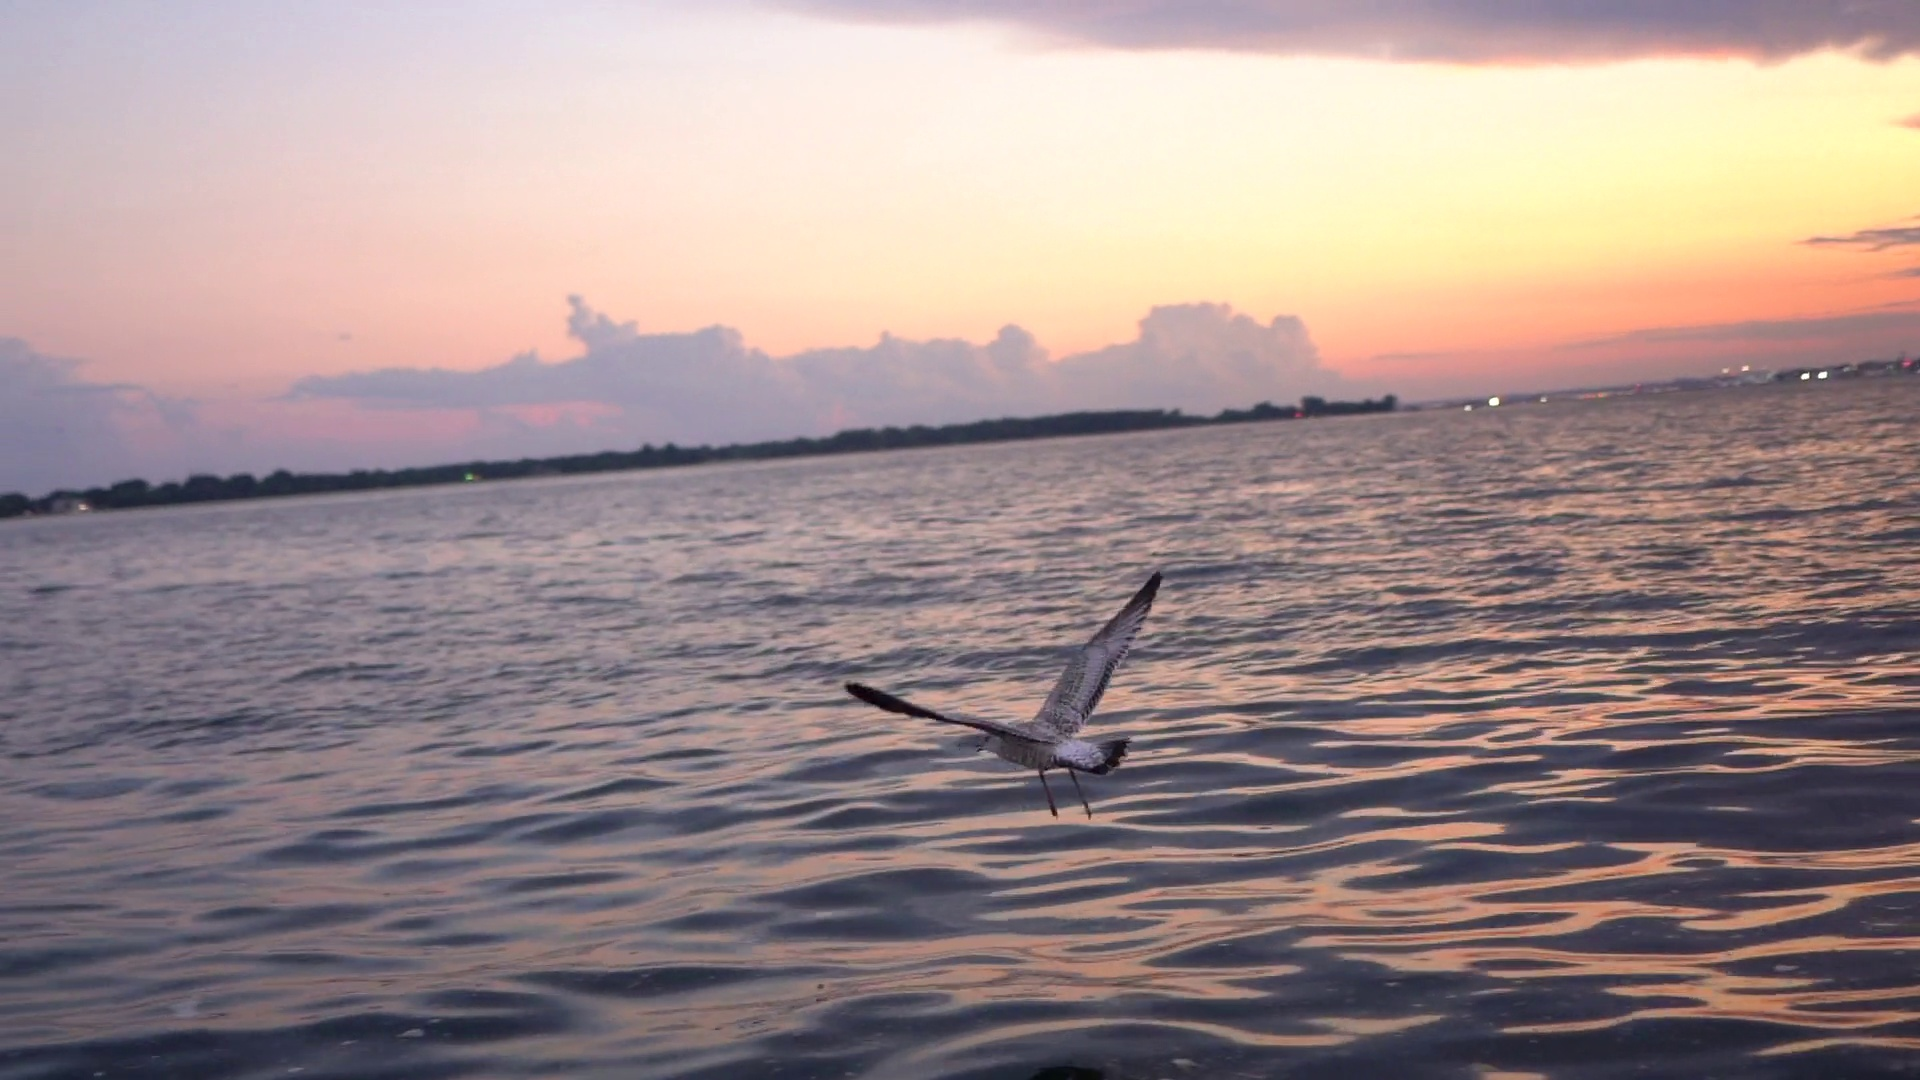bird: (841, 568, 1159, 822)
